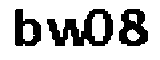0: (87, 7, 115, 48)
8: (118, 5, 149, 49)
b: (12, 7, 42, 49)
w: (45, 16, 88, 48)
